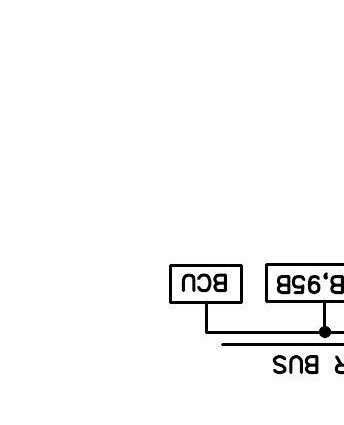BCU: (168, 263, 244, 305)
